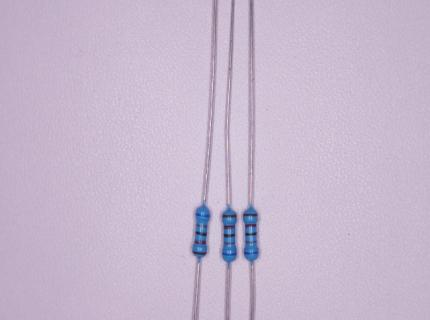Black band: (195, 231, 207, 236), (224, 234, 236, 238), (245, 232, 257, 236)
Blue band: (195, 213, 210, 217), (222, 252, 237, 256), (244, 251, 259, 255)
Brown band: (192, 250, 207, 255), (222, 214, 237, 218), (243, 213, 258, 217)
Grey band: (196, 224, 207, 228), (245, 241, 257, 244), (224, 242, 235, 245)
Red band: (193, 239, 206, 245), (245, 223, 257, 228), (223, 225, 235, 229)
